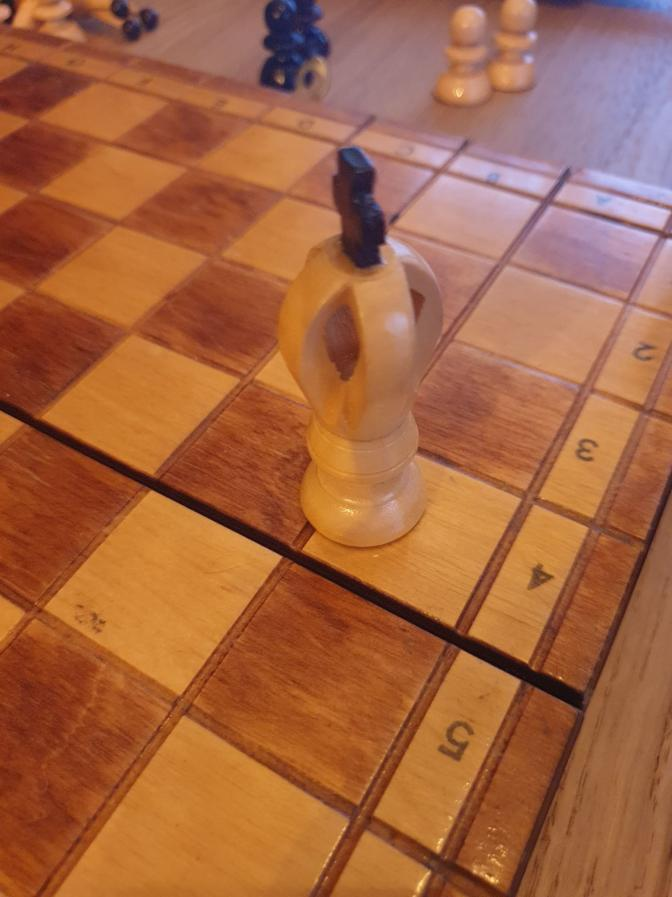wking: (276, 145, 445, 547)
